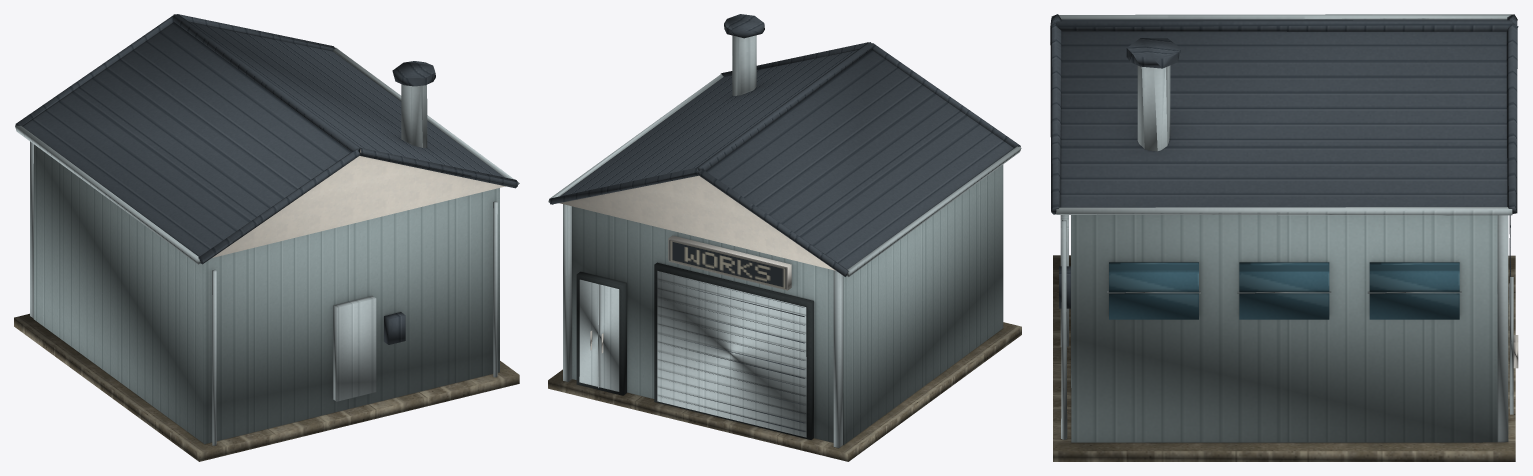
Rendered from factory_001.lod1.obj.
3 renders of one model, left to right at view 1: azimuth 30°, elevation 25°; view 2: azimuth 150°, elevation 25°; view 3: azimuth 270°, elevation 25°, orthographic. The views are drawn at different scales.
Parts seen in each view (by area): view 1: factory_001; view 2: factory_001; view 3: factory_001.
Part boxes in pixels (bbox=[...]): factory_001: bbox=[14, 14, 519, 461]; factory_001: bbox=[548, 14, 1021, 461]; factory_001: bbox=[1050, 14, 1518, 461].
Size of the model in its own units: 6.43 by 5.72 by 6.47.
1 material, 1 textured.
